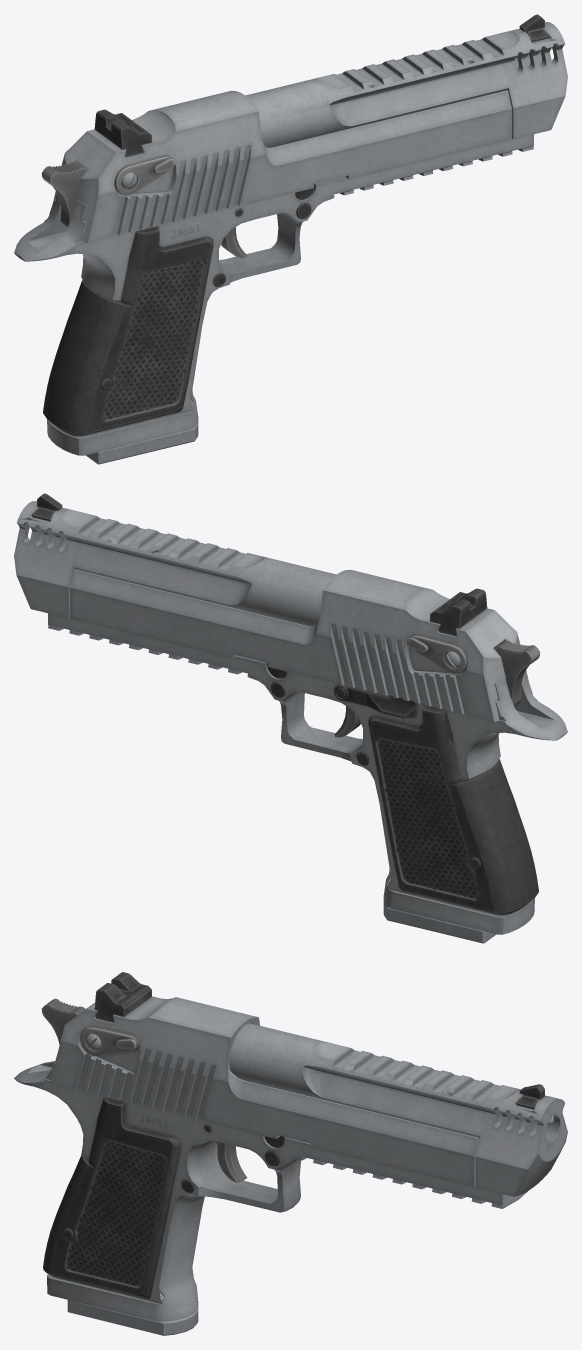
File: deagle.glb
The picture shows the model from 3 angles, top to bottom: view 1: azimuth 30°, elevation 25°; view 2: azimuth 150°, elevation 25°; view 3: azimuth 330°, elevation 25°; orthographic projection.
Parts seen in each view (by area): view 1: Slide, Grip, Barrel, Frame, Ironsights Back, Hammer, Magazine, Safety; view 2: Slide, Grip, Barrel, Frame, Ironsights Back, Hammer, Magazine, Slide Stop, Safety; view 3: Slide, Barrel, Frame, Grip, Ironsights Back, Magazine, Safety, Hammer, Trigger, FrameScews, Ironsights Front.
Part boxes in pixels (left/top/right/bottom): Slide: left=53, top=90, right=511, bottom=242; Grip: left=43, top=226, right=213, bottom=435; Barrel: left=245, top=22, right=567, bottom=147; Frame: left=14, top=134, right=533, bottom=455; Ironsights Back: left=94, top=109, right=151, bottom=157; Hammer: left=41, top=161, right=87, bottom=227; Magazine: left=86, top=423, right=198, bottom=464; Safety: left=114, top=156, right=174, bottom=195; Slide: left=70, top=569, right=528, bottom=721; Grip: left=368, top=705, right=538, bottom=914; Barrel: left=14, top=501, right=336, bottom=626; Frame: left=48, top=613, right=567, bottom=934; Ironsights Back: left=430, top=588, right=487, bottom=636; Hammer: left=494, top=640, right=540, bottom=706; Magazine: left=383, top=902, right=495, bottom=943; Slide Stop: left=333, top=684, right=416, bottom=718; Safety: left=407, top=635, right=467, bottom=674; Slide: left=50, top=996, right=479, bottom=1187; Barrel: left=229, top=1023, right=567, bottom=1196; Frame: left=14, top=1057, right=528, bottom=1321; Grip: left=43, top=1097, right=181, bottom=1298; Ironsights Back: left=94, top=972, right=151, bottom=1022; Magazine: left=67, top=1300, right=198, bottom=1335; Safety: left=80, top=1026, right=139, bottom=1056; Hammer: left=41, top=998, right=85, bottom=1044; Trigger: left=215, top=1141, right=247, bottom=1183; FrameScews: left=181, top=1125, right=284, bottom=1192; Ironsights Front: left=516, top=1084, right=547, bottom=1109.
Size of the model in its own units: 0.27 by 0.1584 by 0.0353.
Materials: 6 (6 with a texture image).
